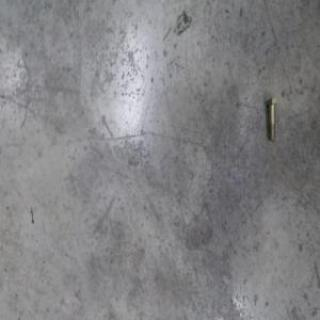Bolttrack_idkeyframe: (266, 96, 277, 141)
